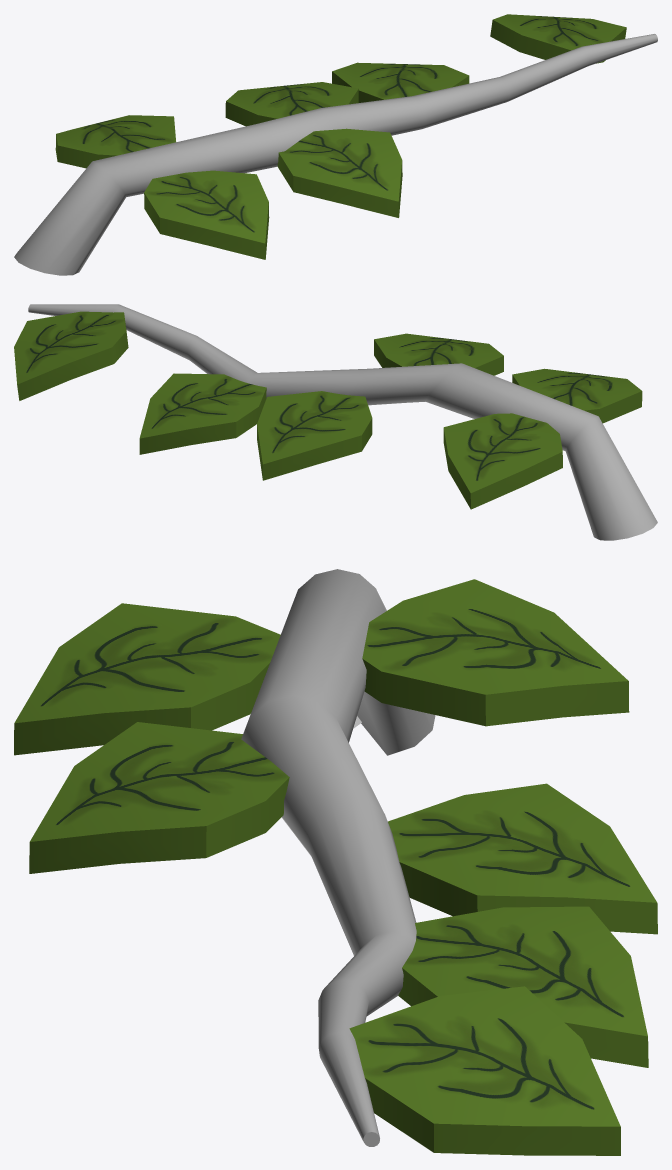
File: VineBridge1.fbx
3 renders of one model, top to bottom at view 1: azimuth 30°, elevation 25°; view 2: azimuth 150°, elevation 25°; view 3: azimuth 270°, elevation 25°, orthographic. The views are drawn at different scales.
Parts seen in each view (by area): view 1: polySurface156; view 2: polySurface156; view 3: polySurface156.
Boxes of the visible parts, bbox=[...] form: polySurface156: bbox=[14, 14, 657, 275]; polySurface156: bbox=[14, 304, 657, 540]; polySurface156: bbox=[14, 569, 657, 1155].
Bounding box in the file's own units: 2.37 × 0.3971 × 1.08.
